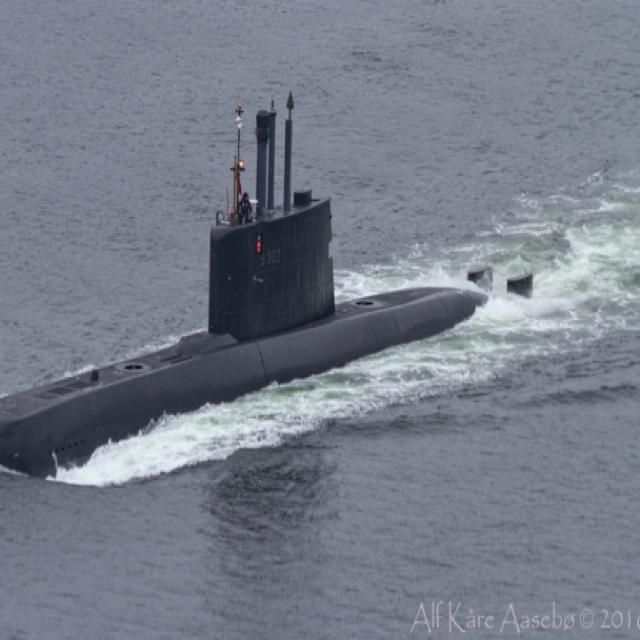submarine: (1, 87, 538, 494)
